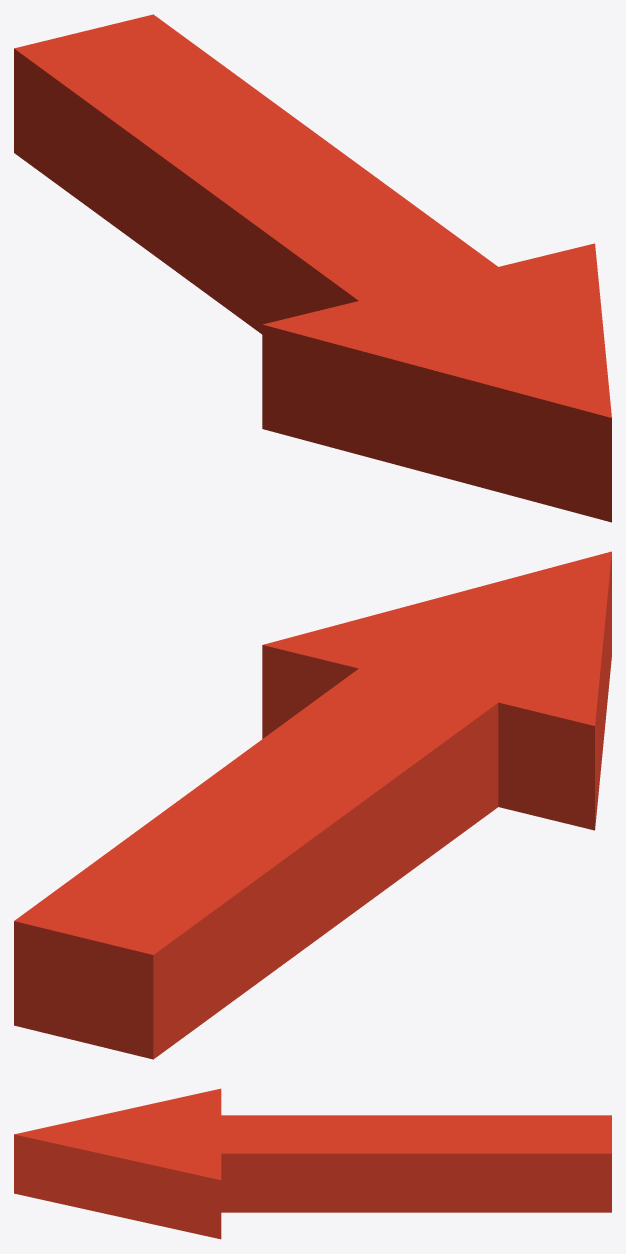
Rendered from arrow.fbx.
3 renders of one model, top to bottom at view 1: azimuth 30°, elevation 25°; view 2: azimuth 150°, elevation 25°; view 3: azimuth 270°, elevation 25°, orthographic. The views are drawn at different scales.
Visible parts, largest first — view 1: Box1, Box; view 2: Box1, Box; view 3: Box1, Box.
Boxes of the visible parts, x1=… form: Box1: x1=14, y1=14, x2=500, y2=334; Box: x1=262, y1=243, x2=611, y2=522; Box1: x1=14, y1=666, x2=500, y2=1059; Box: x1=262, y1=551, x2=611, y2=830; Box1: x1=218, y1=1115, x2=611, y2=1212; Box: x1=14, y1=1088, x2=221, y2=1239.
Size of the model in its own units: 0.7104 by 0.2132 by 1.95.
